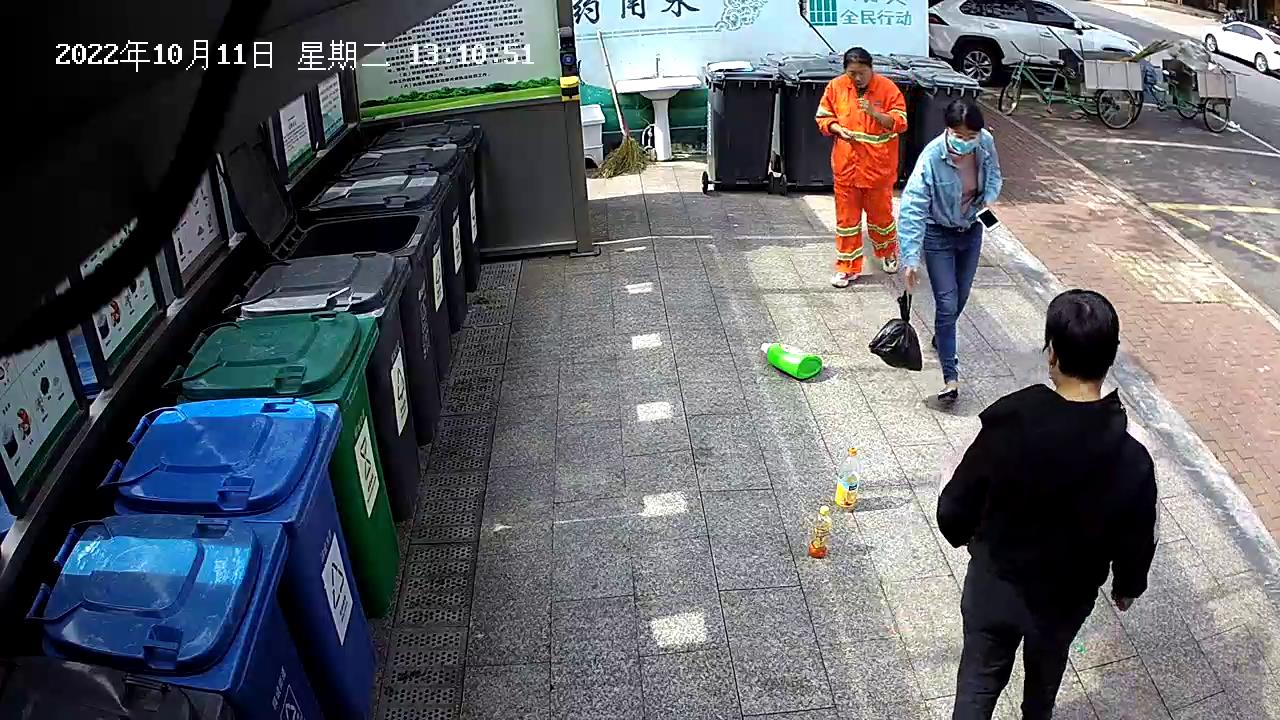garbage-bag: (865, 288, 925, 373)
person: (934, 288, 1160, 720)
suliaozhipin: (758, 337, 824, 381), (833, 445, 862, 510), (808, 502, 834, 560)
worker: (892, 95, 1004, 404), (814, 45, 908, 291)
